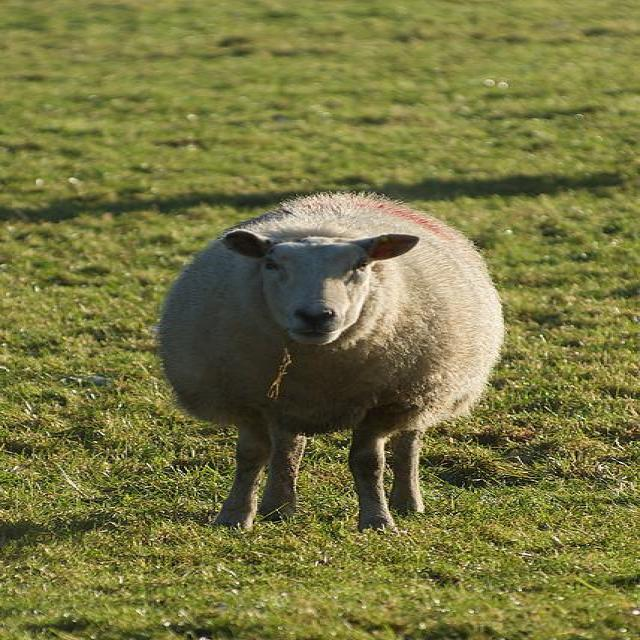Sheep: (154, 195, 510, 529)
